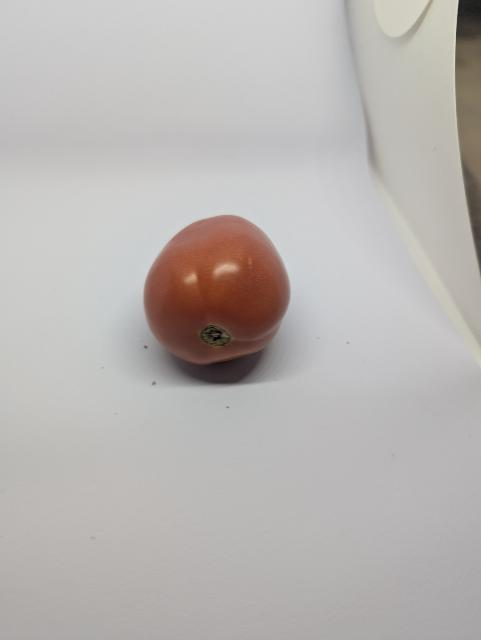red: (141, 212, 293, 368)
